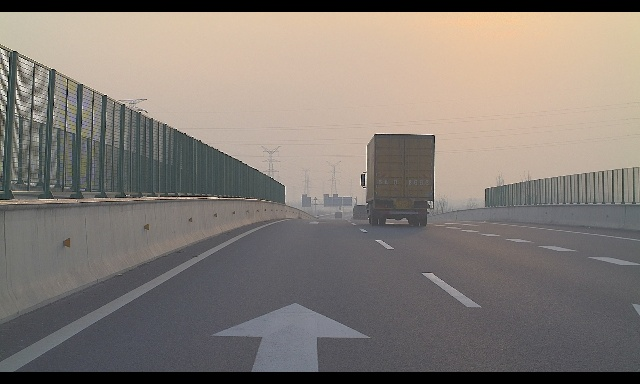truck: (361, 134, 435, 226), (353, 205, 368, 219), (335, 212, 342, 218)
